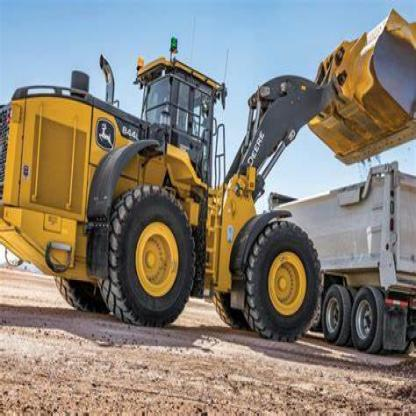bull_dozer/loader/grader: (3, 2, 415, 348)
